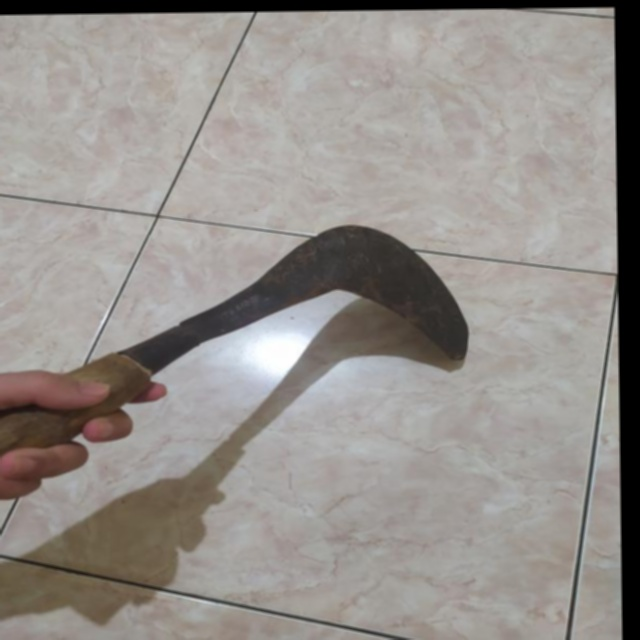Sharp-Object: (0, 213, 479, 504)
